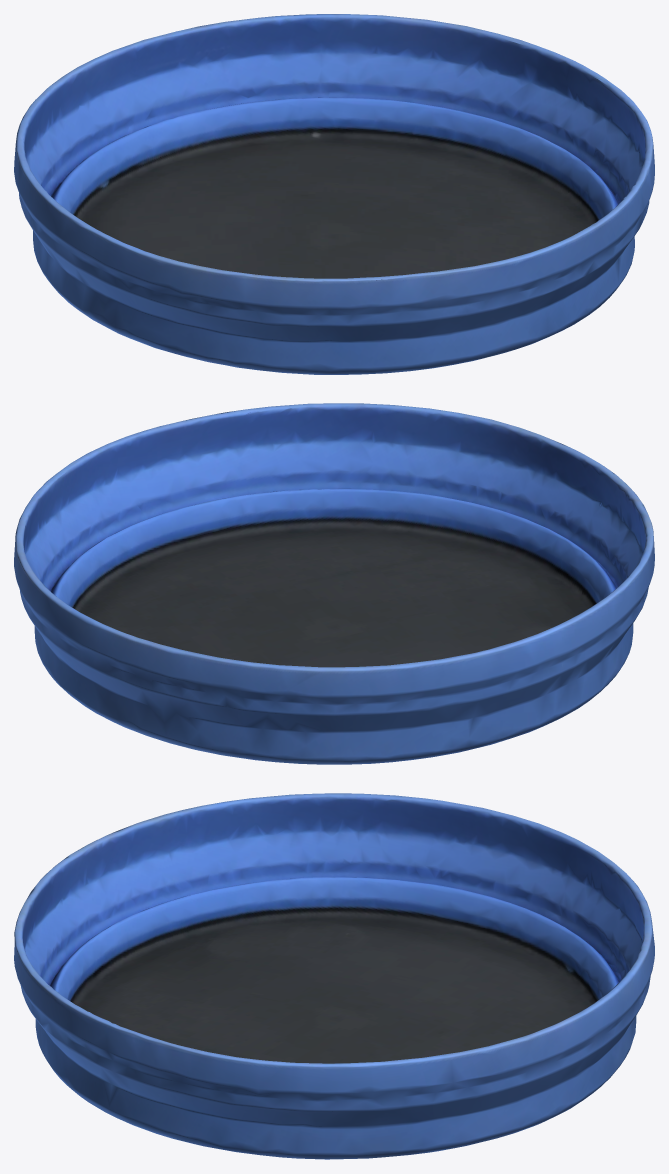
Rendered from Sea_to_Summit_Xl_Bowl.glb.
3 renders of one model, top to bottom at view 1: azimuth 30°, elevation 25°; view 2: azimuth 150°, elevation 25°; view 3: azimuth 270°, elevation 25°, orthographic.
Visible parts, largest first — view 1: Sea_to_Summit_Xl_Bowl; view 2: Sea_to_Summit_Xl_Bowl; view 3: Sea_to_Summit_Xl_Bowl.
Part boxes in pixels (left/top/right/bottom): Sea_to_Summit_Xl_Bowl: left=14, top=14, right=654, bottom=374; Sea_to_Summit_Xl_Bowl: left=14, top=403, right=654, bottom=764; Sea_to_Summit_Xl_Bowl: left=14, top=793, right=654, bottom=1159.
Bounding box in the file's own units: 0.1802 × 0.0355 × 0.1803.
1 material, 1 textured.
